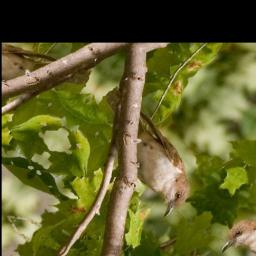Cuckoo: (59, 83, 225, 223)
